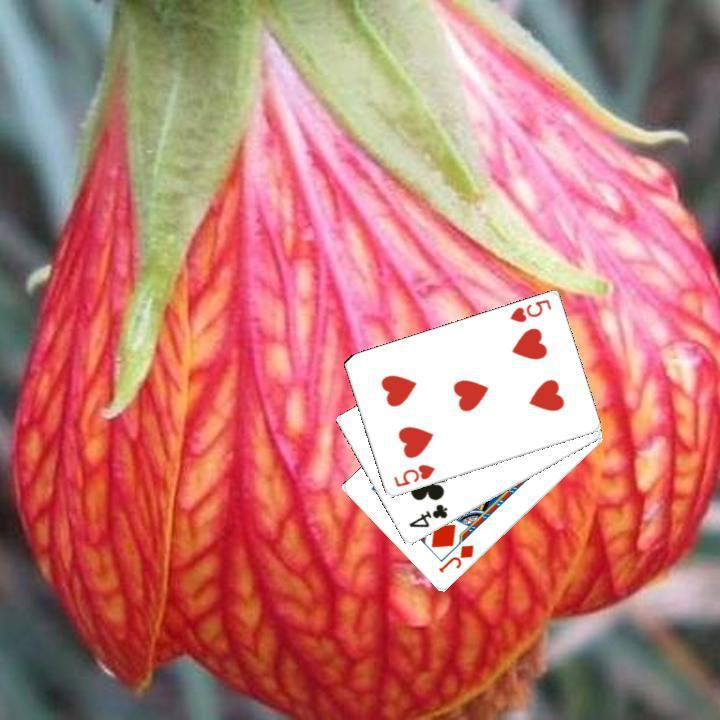4: (404, 500, 450, 530)
5: (505, 295, 553, 325), (389, 460, 436, 489)
J: (434, 541, 476, 575)
